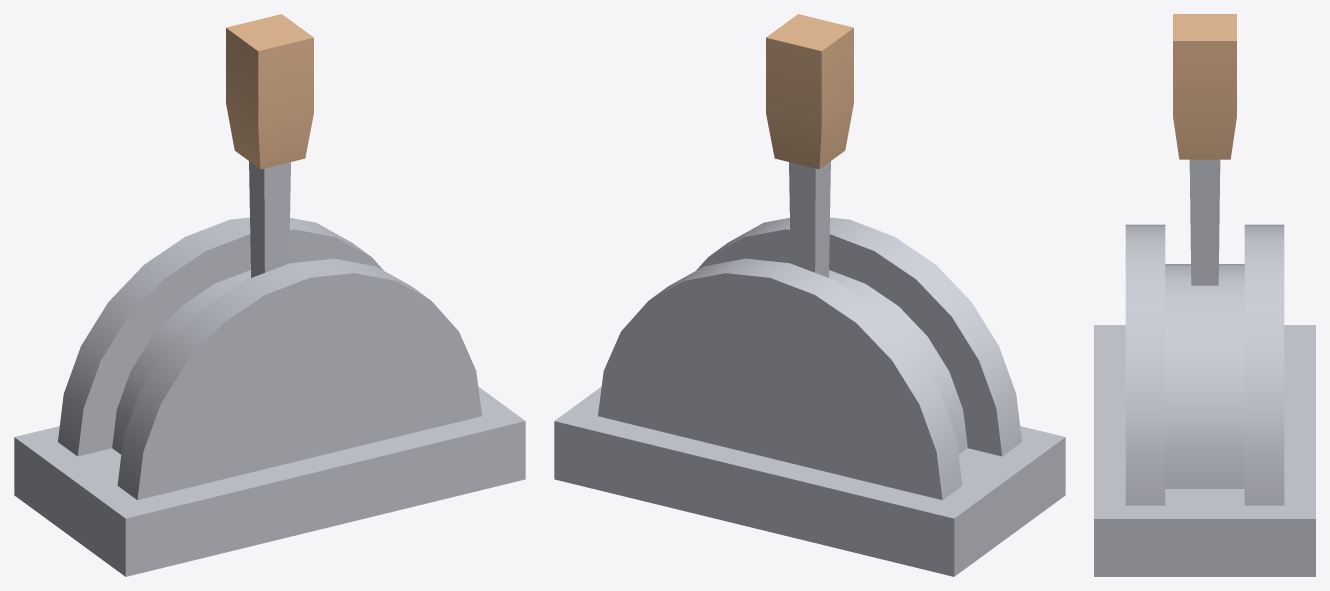
The picture shows the model from 3 angles, left to right: view 1: azimuth 30°, elevation 25°; view 2: azimuth 150°, elevation 25°; view 3: azimuth 270°, elevation 25°; orthographic projection.
Parts seen in each view (by area): view 1: lever, handle; view 2: lever, handle; view 3: lever, handle.
Part boxes in pixels (left/top/right/bottom): lever: left=14, top=217, right=525, bottom=576; handle: left=226, top=14, right=313, bottom=277; lever: left=554, top=217, right=1065, bottom=576; handle: left=766, top=14, right=853, bottom=277; lever: left=1094, top=224, right=1315, bottom=576; handle: left=1173, top=14, right=1236, bottom=285.
Size of the model in its own units: 0.58 by 0.6303 by 0.28.
